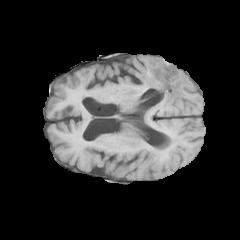glioma: (142, 57, 193, 143)
